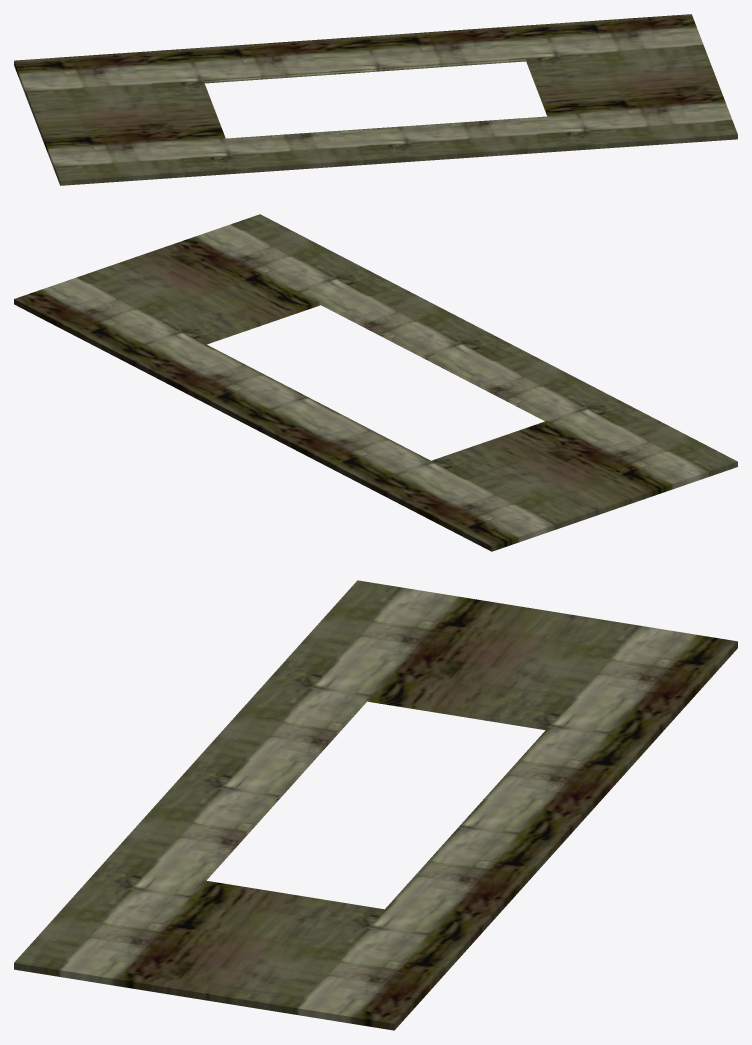
Rendered from H1_Floor2.gltf.
3 views of the same model, one above another, from view 1: azimuth 30°, elevation 25°; view 2: azimuth 150°, elevation 25°; view 3: azimuth 270°, elevation 25° (orthographic). The views are drawn at different scales.
Visible parts, largest first — view 1: H1_Floor2; view 2: H1_Floor2; view 3: H1_Floor2.
Part boxes in pixels (<box>): H1_Floor2: <box>14,14,737,185</box>; H1_Floor2: <box>14,214,737,551</box>; H1_Floor2: <box>14,580,737,1030</box>.
Size of the model in its own units: 98.08 by 0.701 by 67.67.
Materials: 1 (1 with a texture image).
